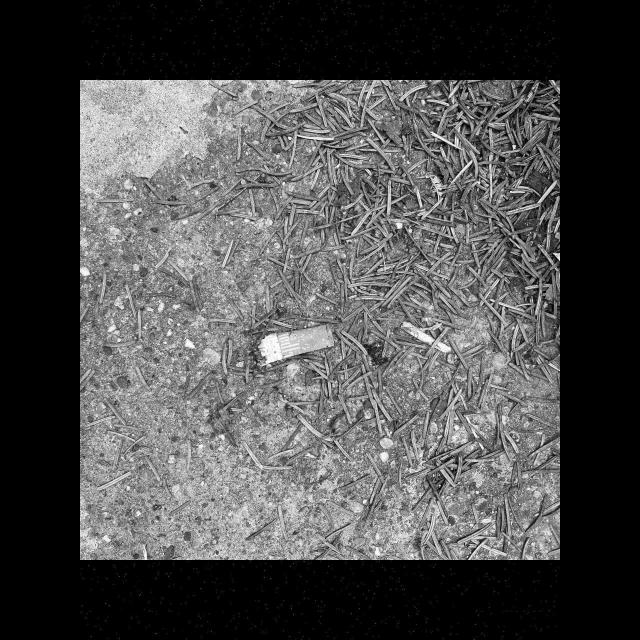cigarette: (253, 322, 335, 366)
